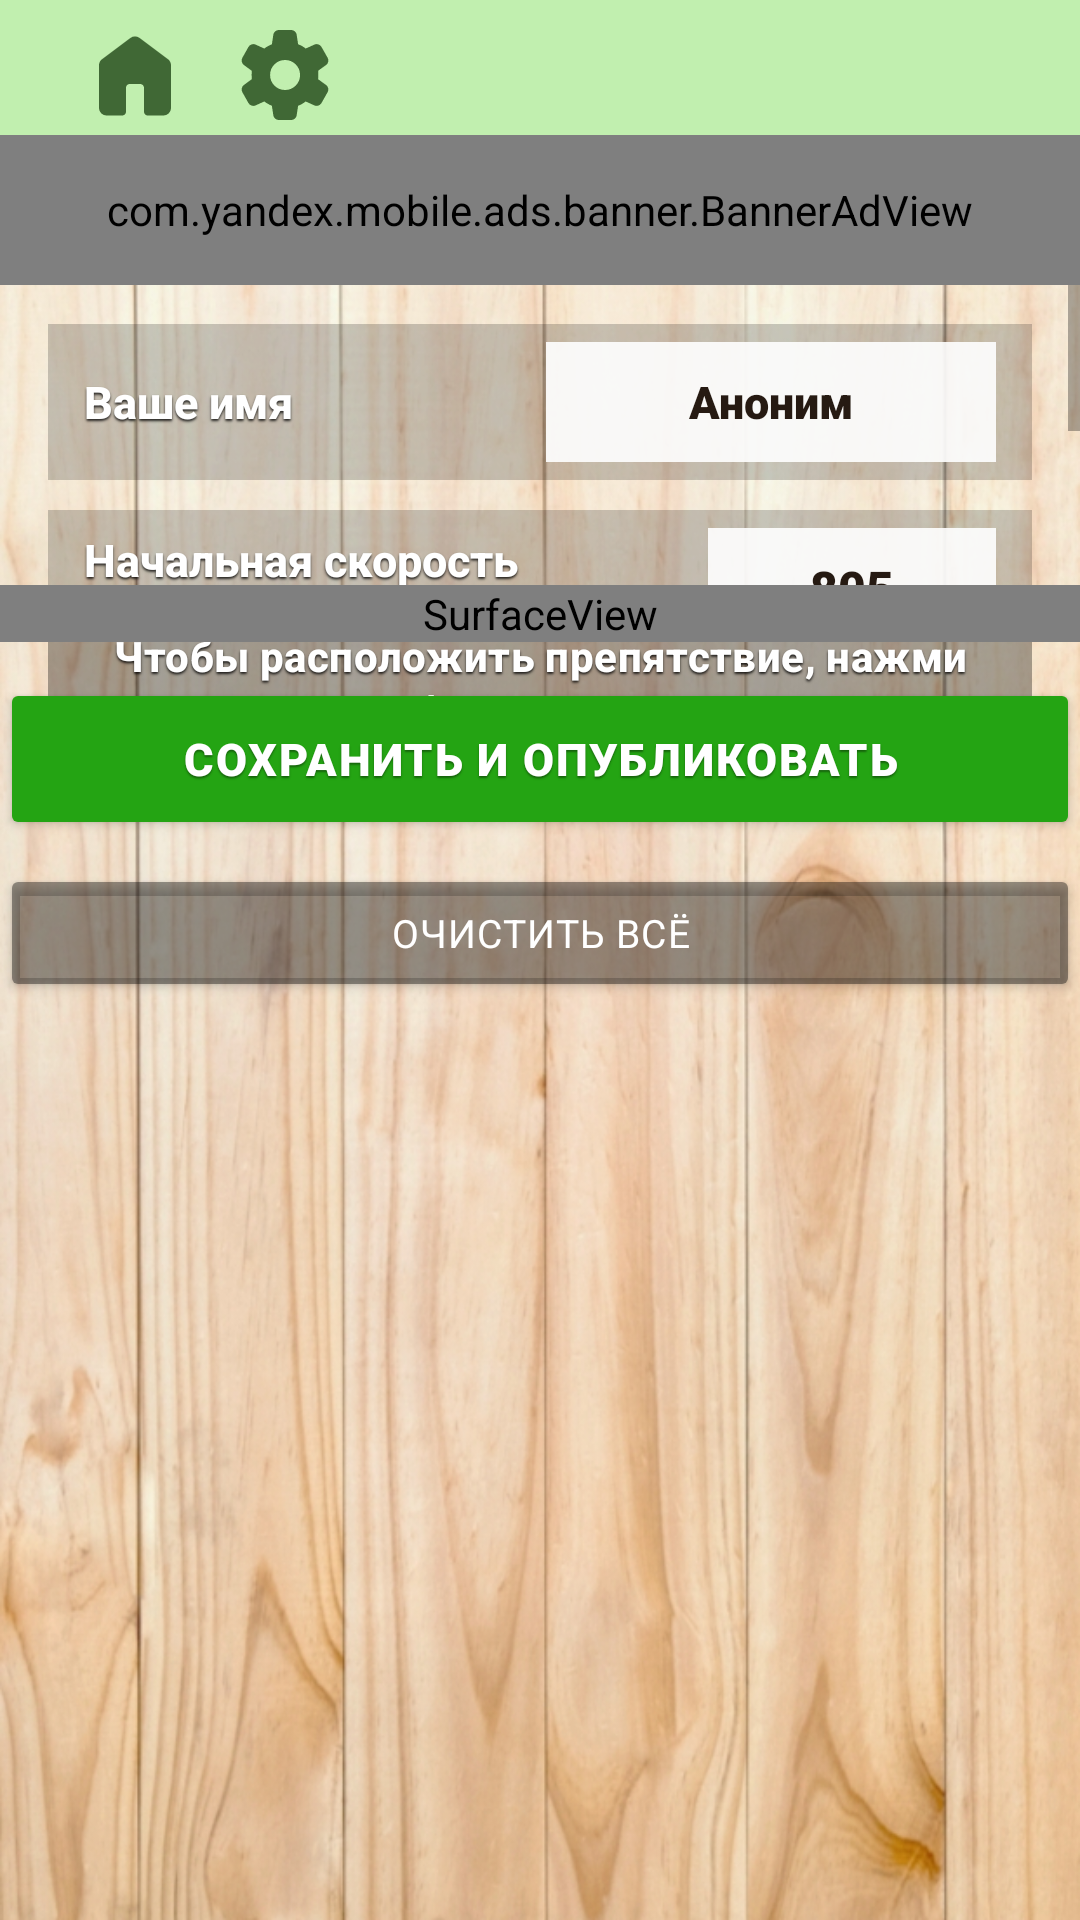

Where to tap for icons on this 1080x1920 app screen, as (x=x, y=y):
home: (x=135, y=76)
settings: (x=285, y=75)
